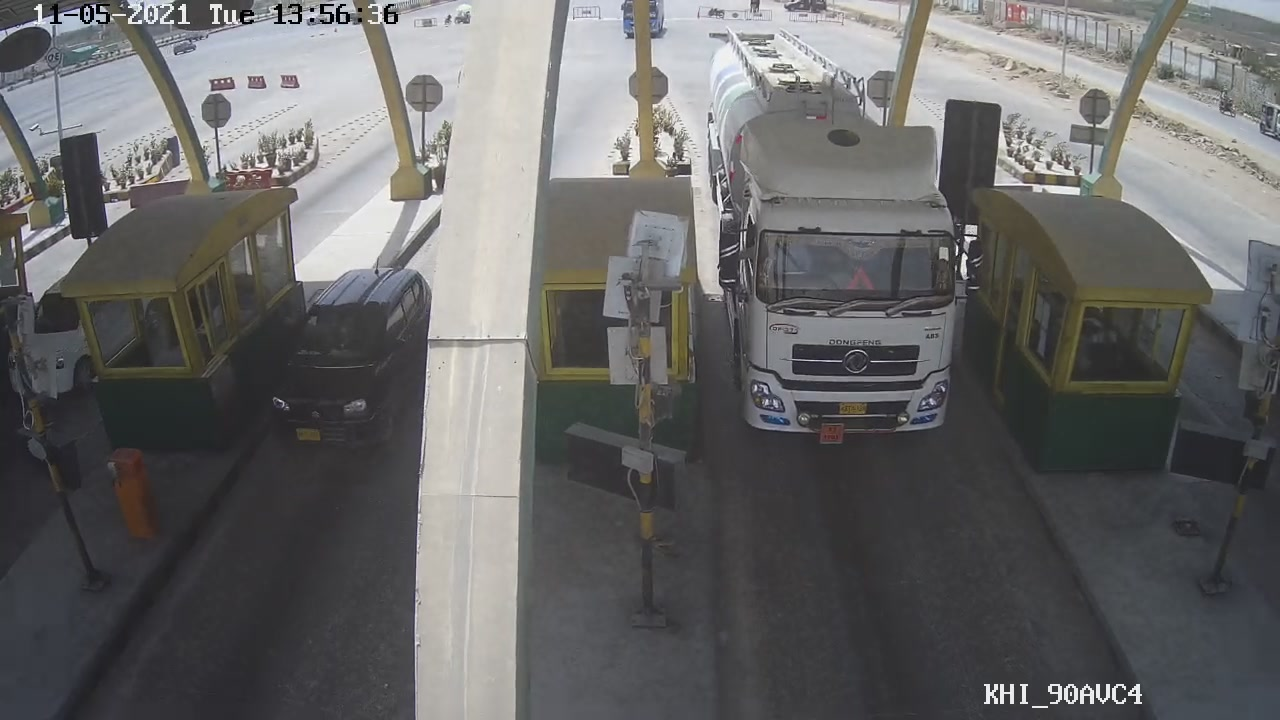F6: (696, 38, 994, 445)
